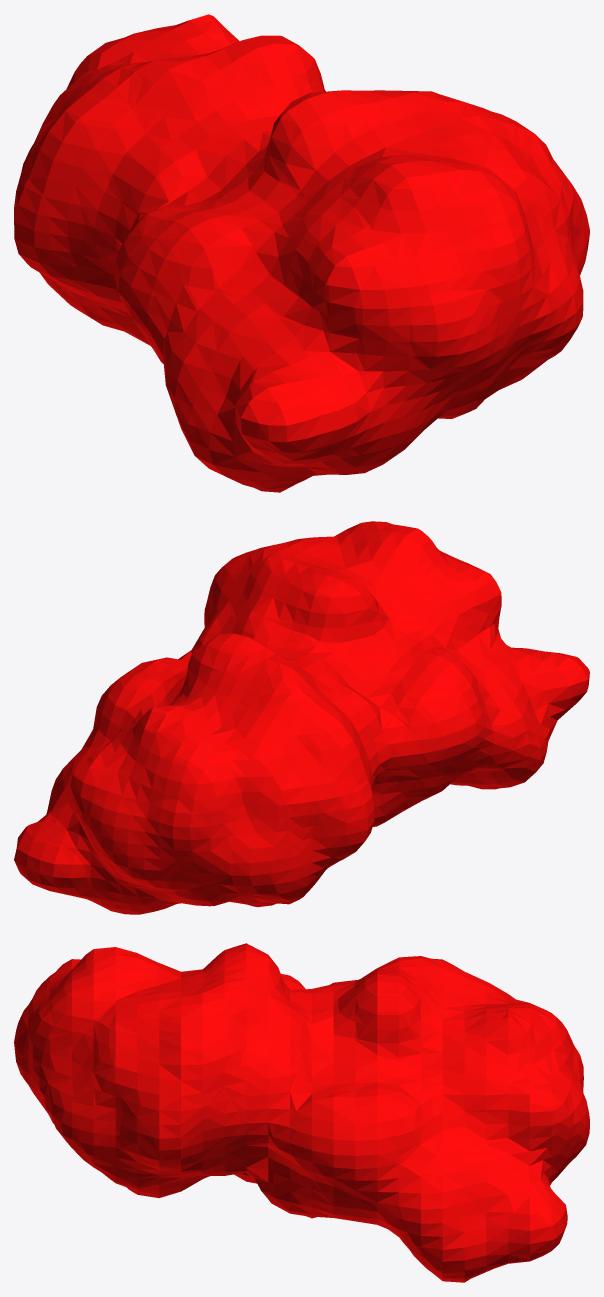
The model's file is deoC_coarse.dae.
3 renders of one model, top to bottom at view 1: azimuth 30°, elevation 25°; view 2: azimuth 150°, elevation 25°; view 3: azimuth 270°, elevation 25°, orthographic. The views are drawn at different scales.
Visible parts, largest first — view 1: deoC; view 2: deoC; view 3: deoC.
Boxes of the visible parts, left/top/right/bottom form: deoC: left=14, top=14, right=589, bottom=492; deoC: left=14, top=521, right=589, bottom=914; deoC: left=14, top=943, right=589, bottom=1282.
Size of the model in its own units: 58.85 by 44.33 by 85.66.
